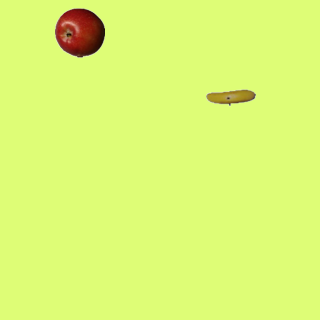Apple Braeburn: (54, 7, 104, 57)
Banana: (205, 72, 255, 122)
